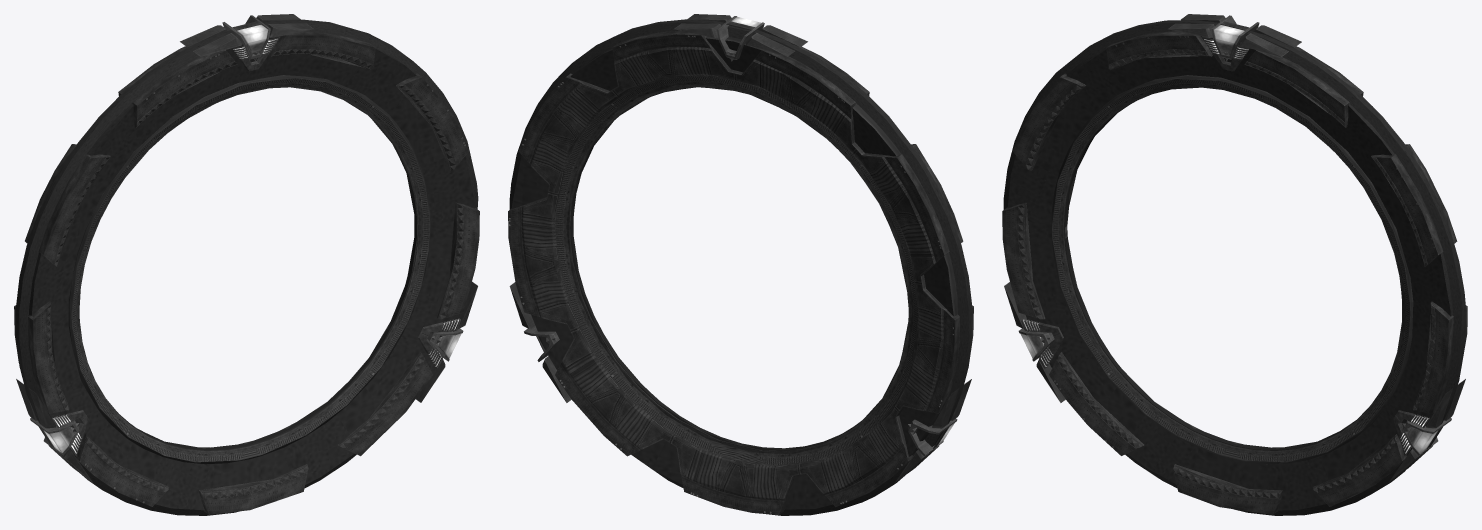
File: ring.glb
3 renders of one model, left to right at view 1: azimuth 30°, elevation 25°; view 2: azimuth 150°, elevation 25°; view 3: azimuth 330°, elevation 25°, orthographic.
Parts seen in each view (by area): view 1: gate, marker_0, marker_2, marker_1; view 2: gate, marker_0, marker_2, marker_1; view 3: gate, marker_0, marker_1, marker_2.
Boxes of the visible parts, bbox=[...] form: gate: bbox=[14, 19, 479, 515]; marker_0: bbox=[180, 14, 313, 71]; marker_2: bbox=[16, 379, 92, 482]; marker_1: bbox=[416, 281, 477, 402]; gate: bbox=[508, 19, 973, 515]; marker_0: bbox=[674, 14, 807, 61]; marker_2: bbox=[895, 379, 971, 482]; marker_1: bbox=[509, 282, 571, 402]; gate: bbox=[1002, 20, 1467, 515]; marker_0: bbox=[1168, 14, 1301, 71]; marker_1: bbox=[1388, 379, 1465, 482]; marker_2: bbox=[1004, 282, 1065, 402].
Bounding box in the file's own units: 2 × 2 × 0.1632.
2 materials, 2 textured.
